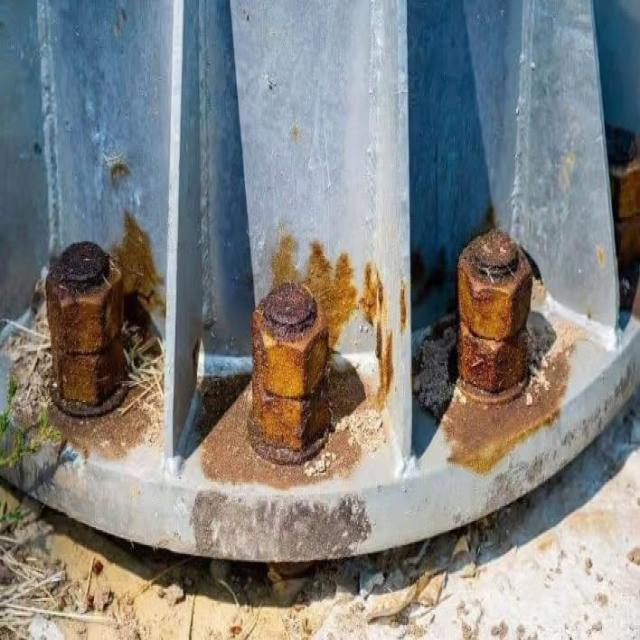Crevice Corrosion: (249, 283, 329, 464), (46, 242, 127, 417), (457, 229, 532, 402), (606, 123, 639, 270)
